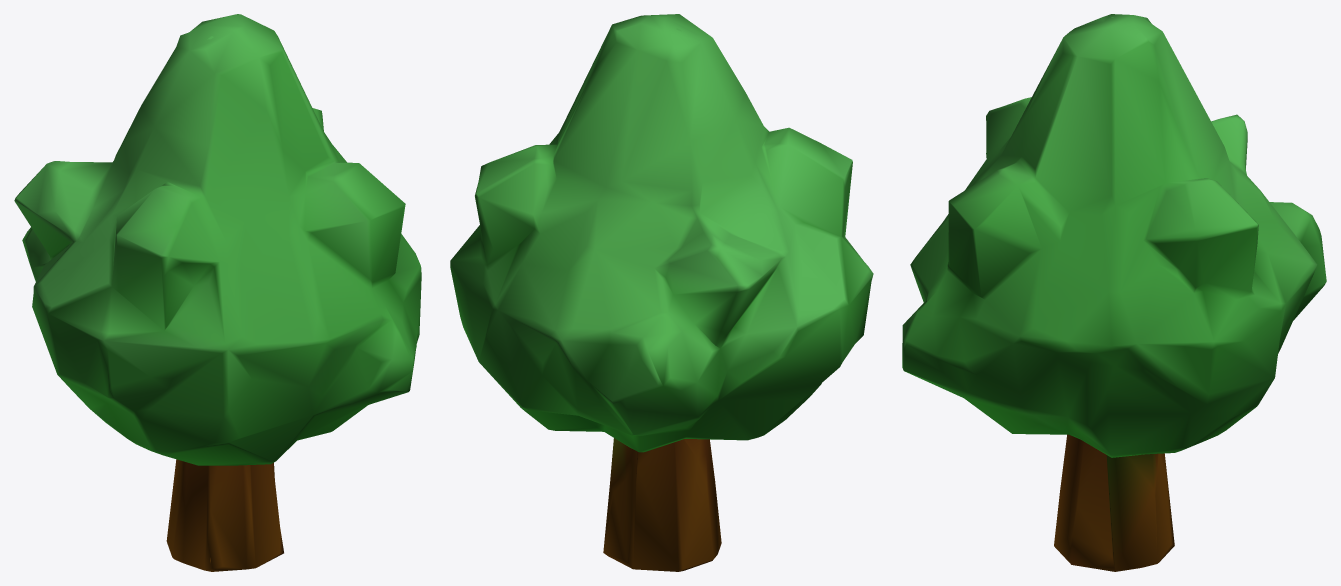
Rendered from gen3d-frozen-shrub-lod1.glb.
3 views of the same model, side by side, from view 1: azimuth 30°, elevation 25°; view 2: azimuth 150°, elevation 25°; view 3: azimuth 270°, elevation 25° (orthographic).
Visible parts, largest first — view 1: part_0; view 2: part_0; view 3: part_0.
Boxes of the visible parts, bbox=[...] form: part_0: bbox=[14, 14, 421, 571]; part_0: bbox=[450, 14, 873, 571]; part_0: bbox=[902, 14, 1326, 571].
Bounding box in the file's own units: 0.7003 × 0.9991 × 0.726.
